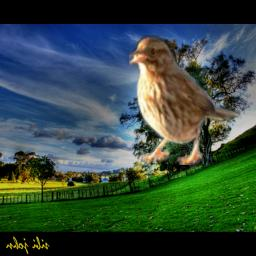Sparrow: (129, 35, 242, 165)
